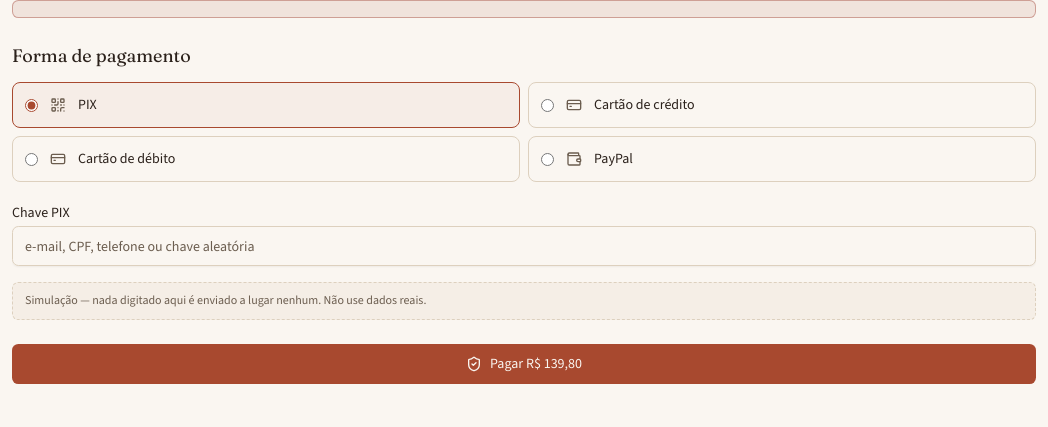
Test: CheckoutForm › refuses to submit an empty required field
Step 1. Click the button "Pagar R$ 139,80" → {"x": 524, "y": 364}, box [12,344,1036,384]
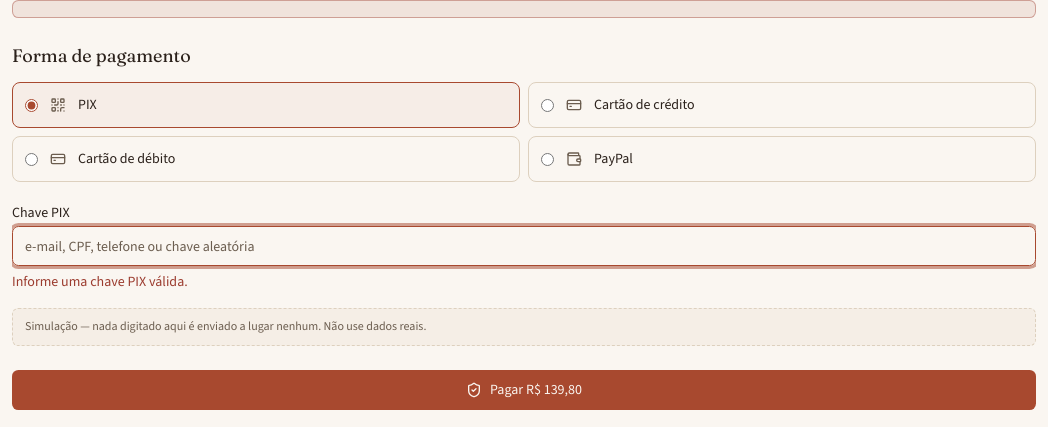
Expected: the text "Informe uma chave PIX válida." is shown, [12,272,188,291]
